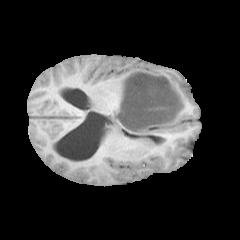glioma: (113, 67, 184, 135)
